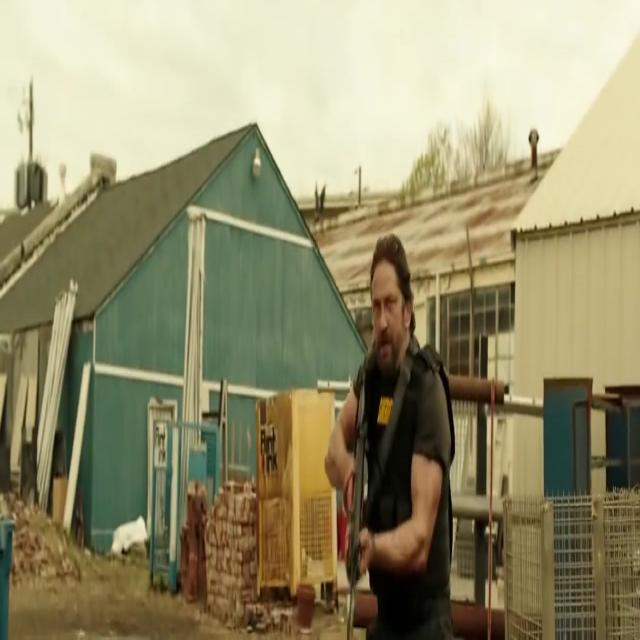Weapon: (347, 399, 368, 617)
